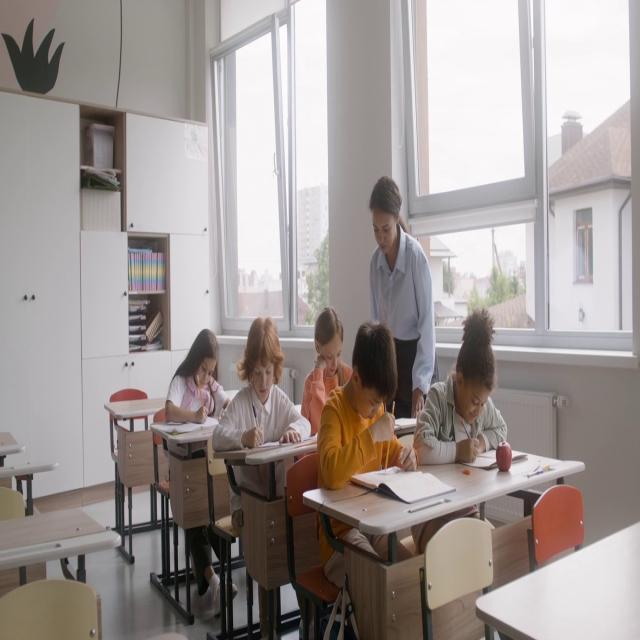reading: (301, 308, 349, 437)
writing: (317, 322, 418, 611), (214, 316, 310, 530), (413, 310, 506, 468), (165, 330, 228, 435)
